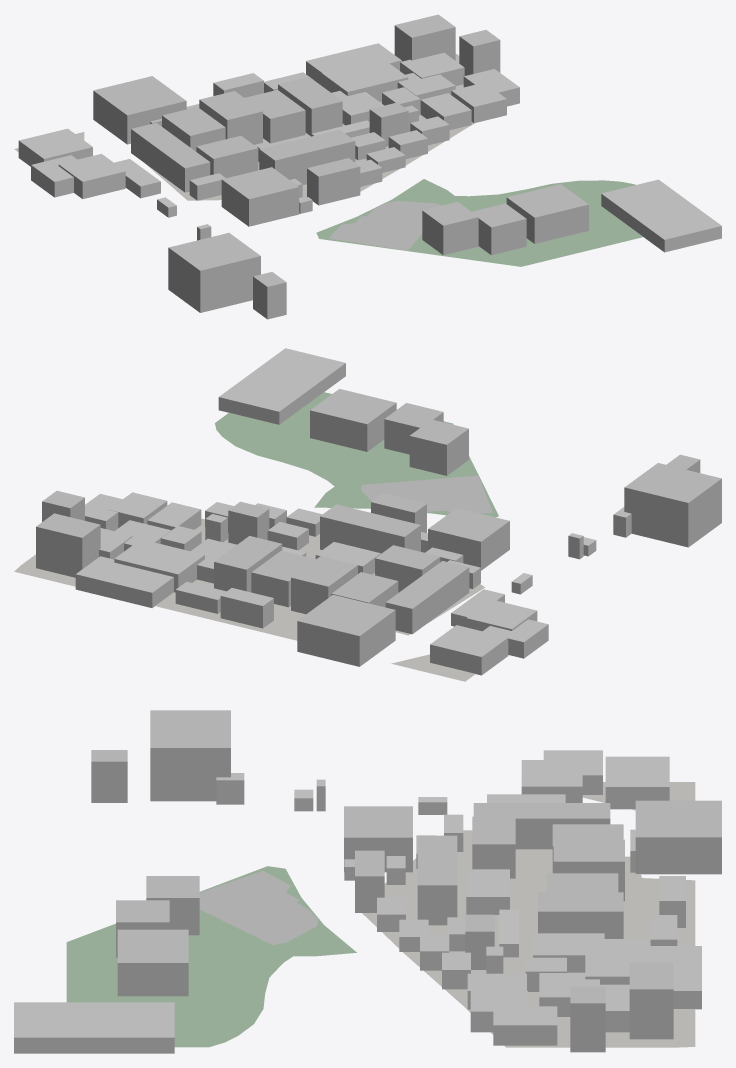
Rendered from 139_114_mid.glb.
3 views of the same model, one above another, from view 1: azimuth 30°, elevation 25°; view 2: azimuth 150°, elevation 25°; view 3: azimuth 270°, elevation 25° (orthographic). The views are drawn at different scales.
Bounding box in the file's own units: 545 × 47.62 × 563.
